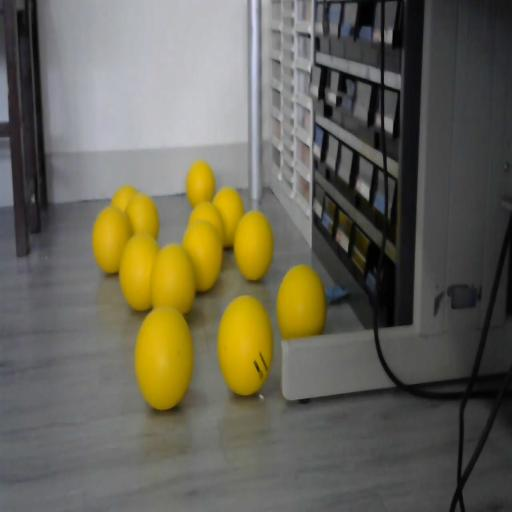FUEL: (134, 304, 194, 409), (216, 292, 274, 396), (276, 264, 328, 340), (150, 244, 196, 315), (233, 209, 274, 281), (92, 206, 131, 274), (124, 193, 160, 241), (186, 200, 224, 244), (186, 160, 216, 206)
